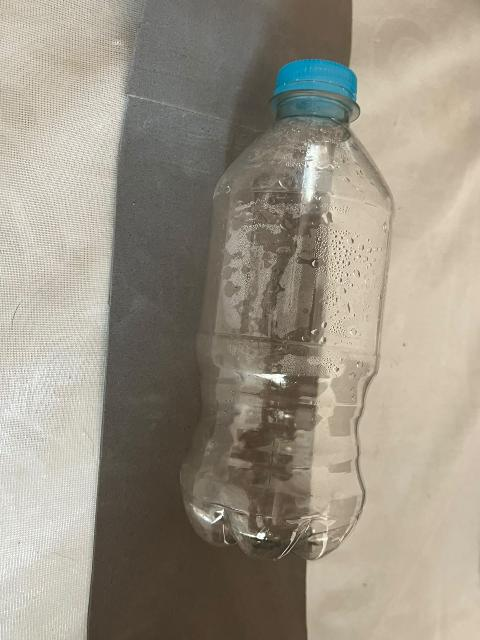PET: (175, 34, 414, 605)
